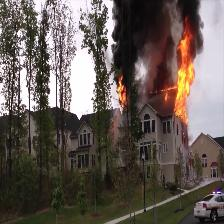fire: (171, 43, 198, 119)
smoke: (116, 3, 168, 70), (176, 3, 200, 37)
